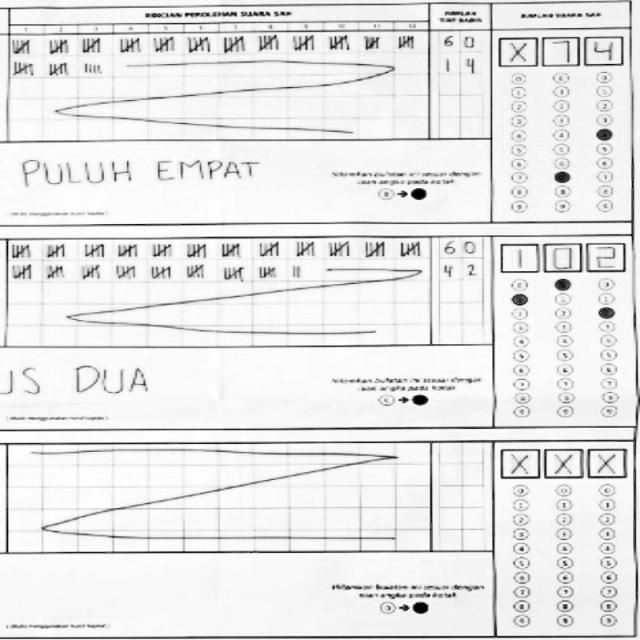Suara: (498, 443, 632, 481), (496, 238, 629, 276), (494, 33, 628, 70)
